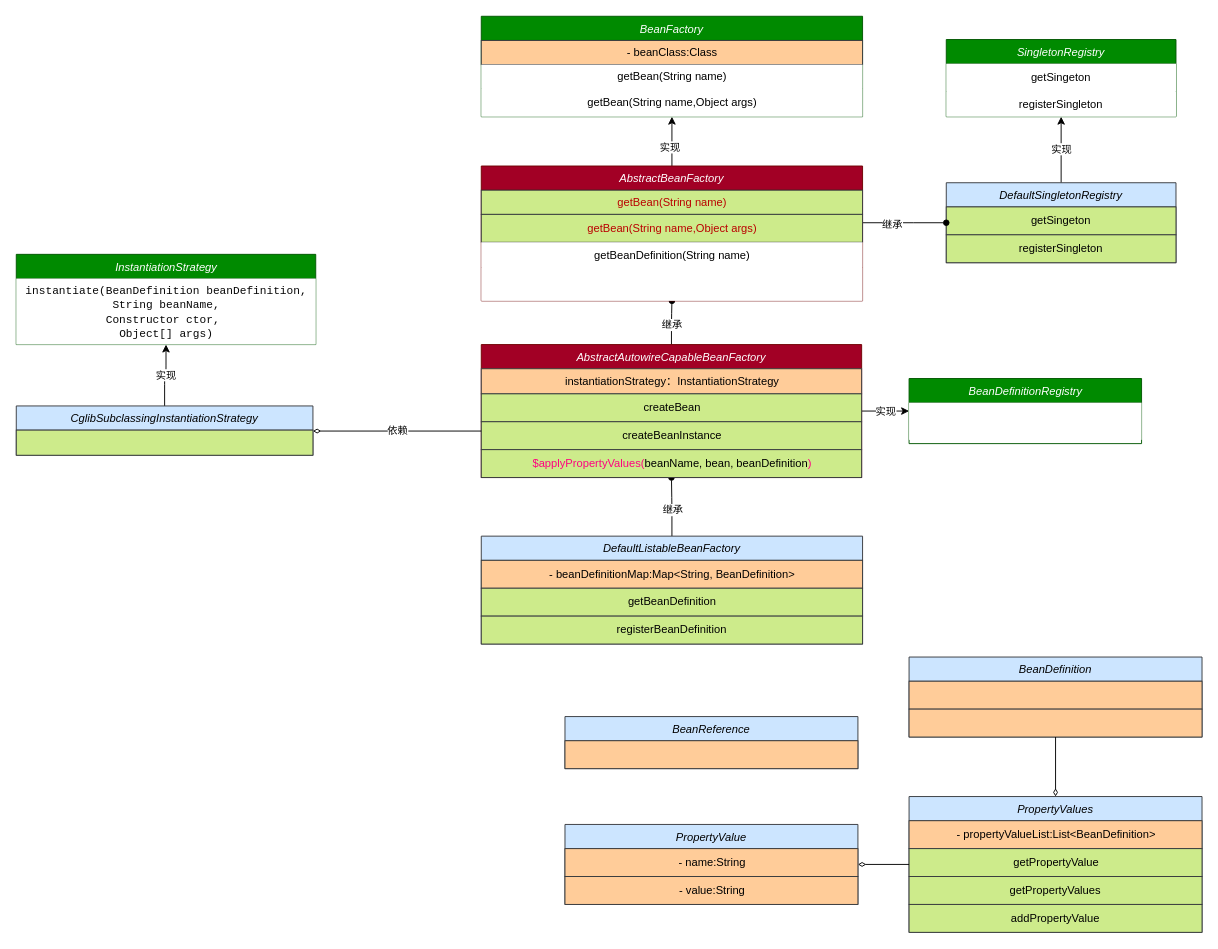
Image size: 1218x949. Some labels were removed from this diagram. The shapes that lost their labels are listed below. From the top down, each one's centre as x and y in pixels, then its label:
pixel 671 283: createBean(String name,BeanDefinition beanDefinition)
pixel 1025 420: registerBeanDefinition( beanName, beanDefinition )
pixel 164 442: instantiate
pixel 1055 694: - propertyValues: PropertyValues
pixel 1055 722: - beanClass: Class
pixel 711 754: - name :beanName
